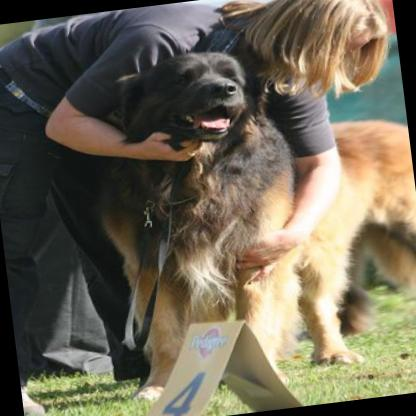Leonberg: (95, 27, 416, 402)
